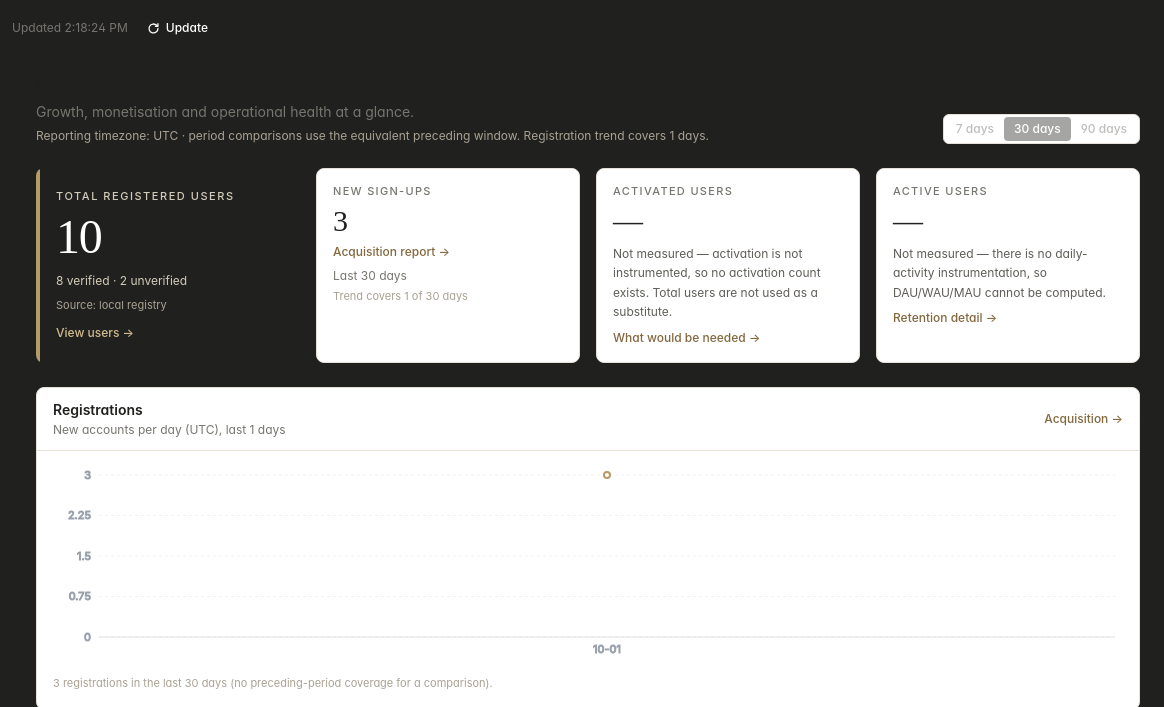
Test: manual refresh — Overview data view › shows a loading state and blocks duplicate requests while a refresh runs
The width and height of the screenshot is (1164, 707).
Check: the text with test id "last-refresh" shows "Updated", box [12,20,128,35]
Click the button "Update" at (177, 28), box [136,12,219,44]
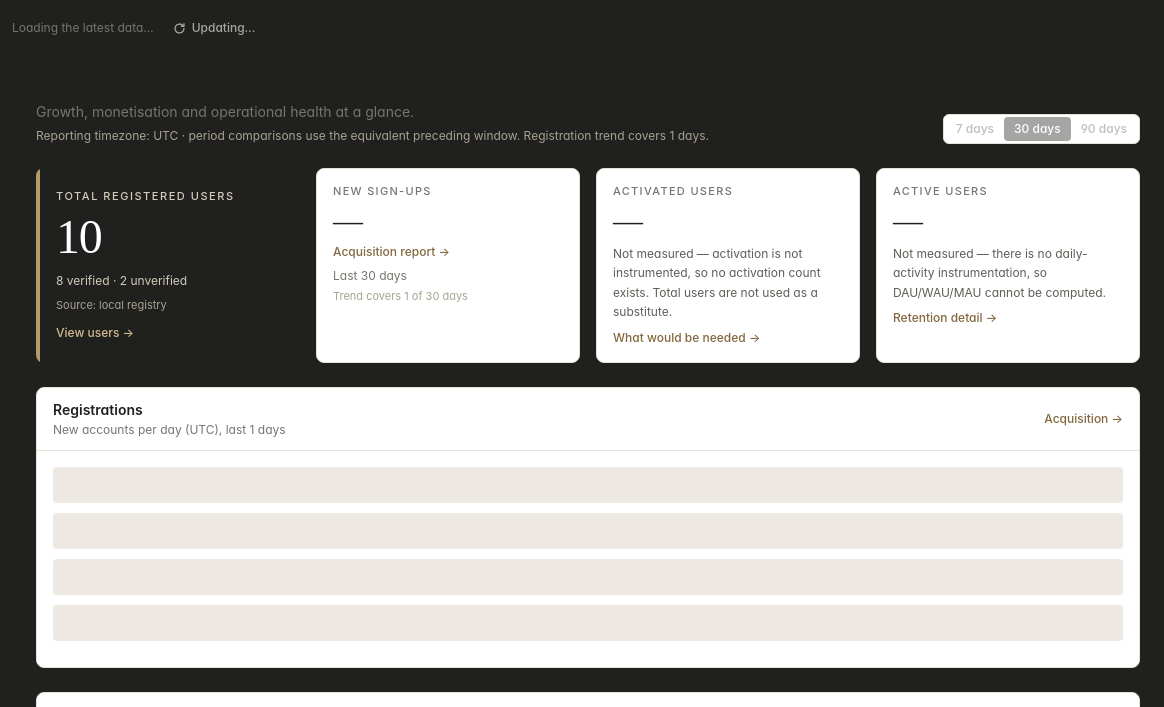
Check: the button "Updating…" is disabled
Check: the text with test id "last-refresh" reads "Loading the latest data…", box [12,20,154,35]
Click the button "Updating…" at (214, 28), box [162,12,266,44]
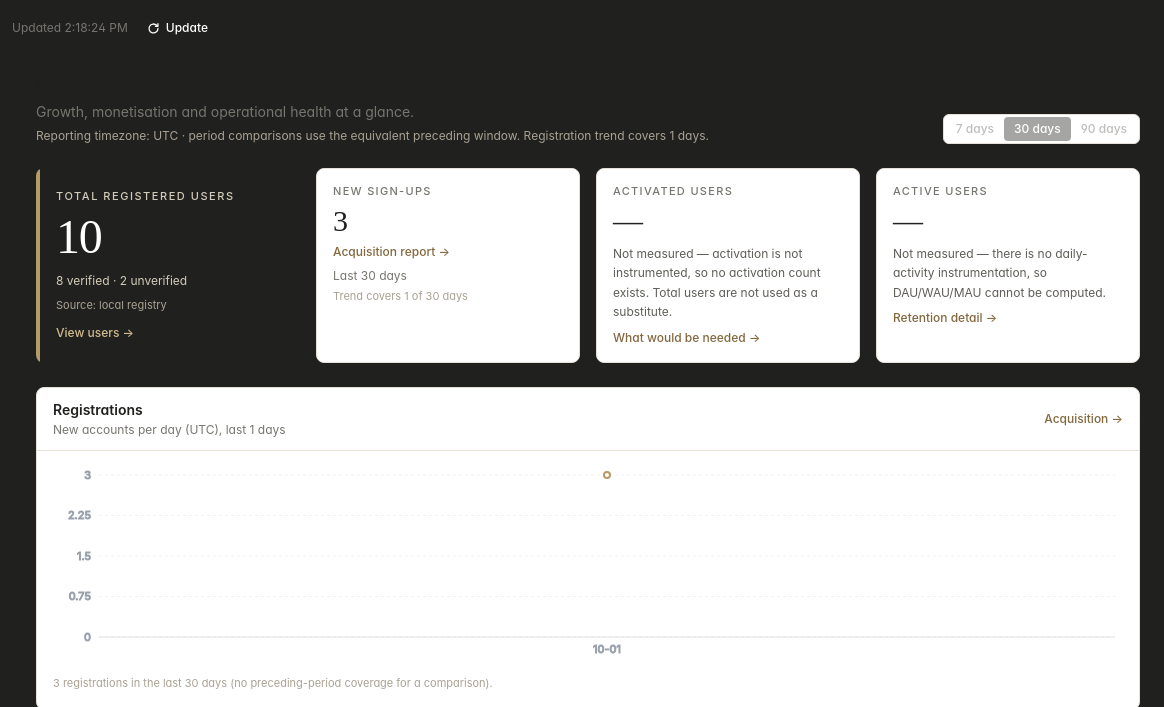
Check: the text with test id "last-refresh" shows "Updated", box [12,20,128,35]
Check: the button "Update" is enabled, box [136,12,219,44]
